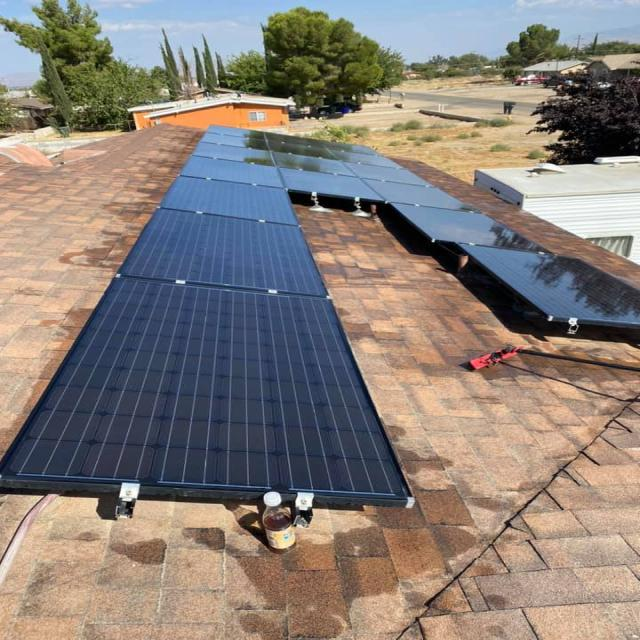clean-solar-panel: (3, 126, 638, 505)
